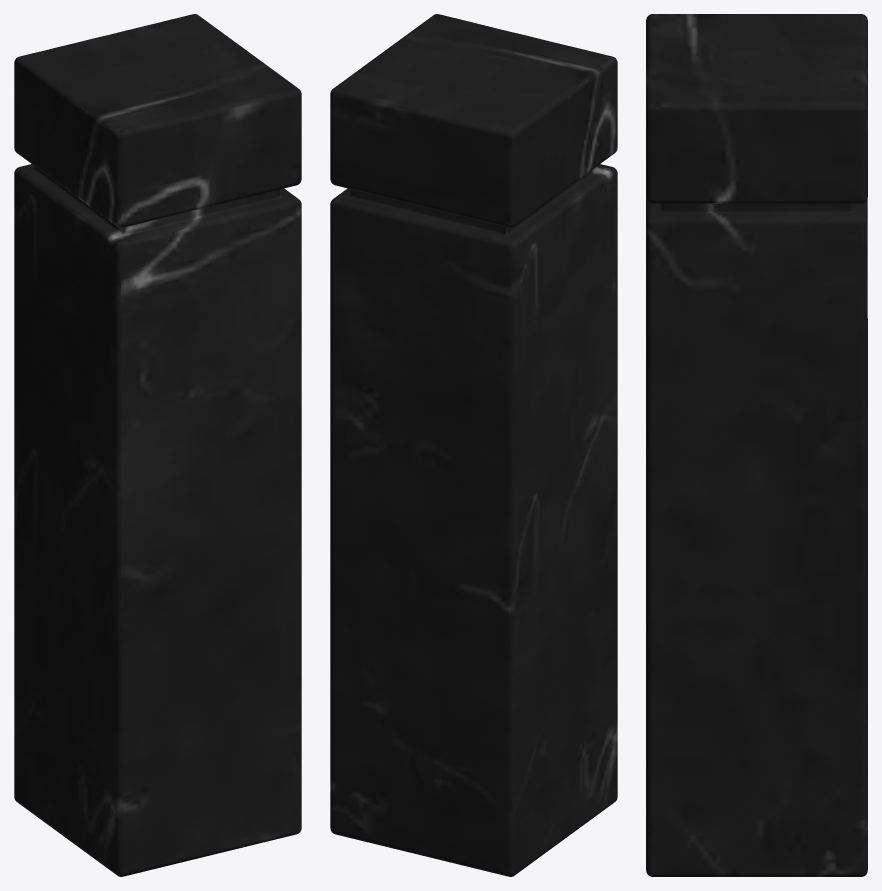
File: kral_cerny.glb
3 views of the same model, side by side, from view 1: azimuth 30°, elevation 25°; view 2: azimuth 150°, elevation 25°; view 3: azimuth 270°, elevation 25° (orthographic). The views are drawn at different scales.
Visible parts, largest first — view 1: kral_cerny; view 2: kral_cerny; view 3: kral_cerny.
Boxes of the visible parts, box(x1,y1,x2,y2) form: kral_cerny: box(14, 14, 301, 876); kral_cerny: box(330, 14, 617, 876); kral_cerny: box(646, 14, 867, 876).
Size of the model in its own units: 0.024 by 0.0924 by 0.024.
1 material, 1 textured.
